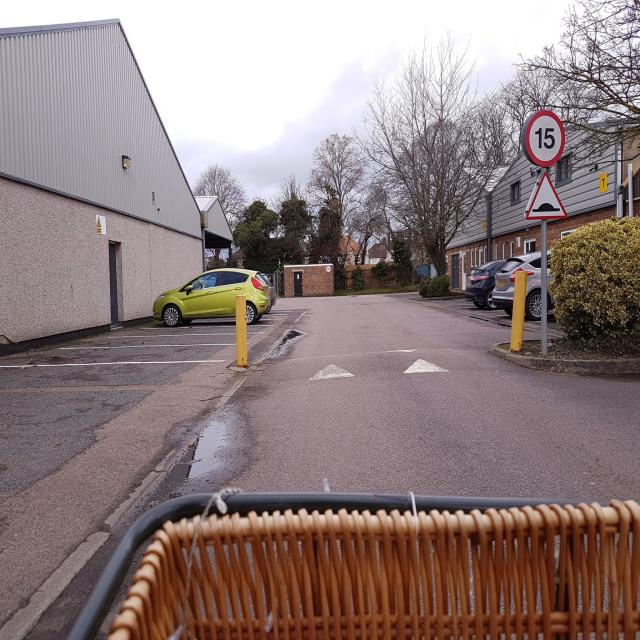car: (152, 267, 274, 328), (549, 262, 640, 328), (490, 250, 558, 320), (465, 257, 528, 309)
